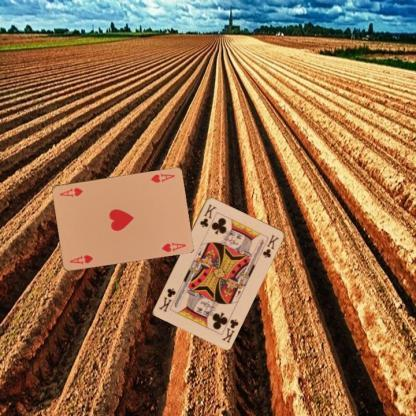Ah: (148, 170, 176, 184), (67, 252, 94, 266)
Kc: (197, 201, 218, 229), (219, 316, 240, 344)
